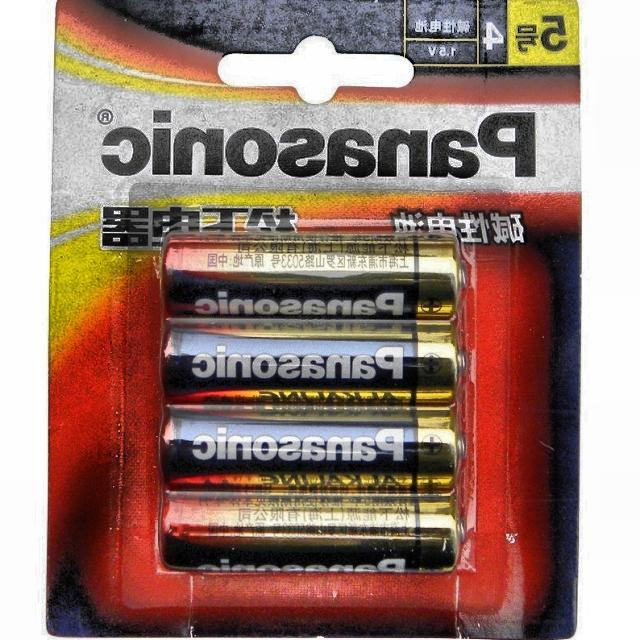Non-Valuable Waste - Batteries: (162, 318, 458, 405), (162, 405, 458, 492), (162, 234, 461, 320), (161, 490, 458, 572)
